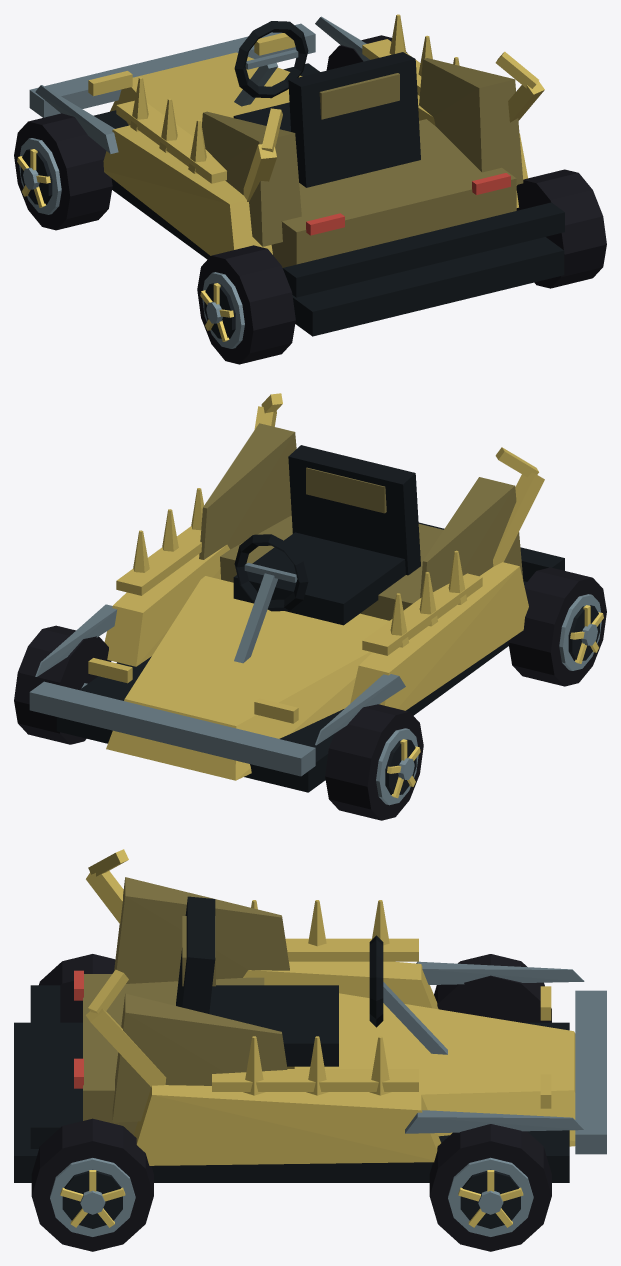
Rendered from kart.glb.
The picture shows the model from 3 angles, top to bottom: view 1: azimuth 30°, elevation 25°; view 2: azimuth 150°, elevation 25°; view 3: azimuth 270°, elevation 25°; orthographic projection. The views are drawn at different scales.
Parts seen in each view (by area): view 1: chassis, wheel-rear-left, wheel-front-left, wheel-rear-right, wheel-front-right; view 2: chassis, wheel-front-left, wheel-rear-left, wheel-front-right; view 3: chassis, wheel-rear-right, wheel-front-right, wheel-front-left, wheel-rear-left.
Part boxes in pixels (left/top/right/bottom): chassis: left=29, top=14, right=564, bottom=336; wheel-rear-left: left=197, top=245, right=295, bottom=364; wheel-front-left: left=14, top=113, right=112, bottom=230; wheel-rear-right: left=516, top=169, right=606, bottom=288; wheel-front-right: left=326, top=35, right=407, bottom=70; chassis: left=29, top=393, right=564, bottom=792; wheel-front-left: left=325, top=704, right=423, bottom=820; wheel-rear-left: left=508, top=567, right=606, bottom=686; wheel-front-right: left=14, top=625, right=111, bottom=744; chassis: left=14, top=849, right=606, bottom=1182; wheel-rear-right: left=31, top=1118, right=153, bottom=1251; wheel-front-right: left=429, top=1124, right=551, bottom=1251; wheel-front-left: left=434, top=954, right=551, bottom=1022; wheel-rear-left: left=39, top=954, right=115, bottom=1022.
Bounding box in the file's own units: 2.42 × 1.38 × 3.01.
